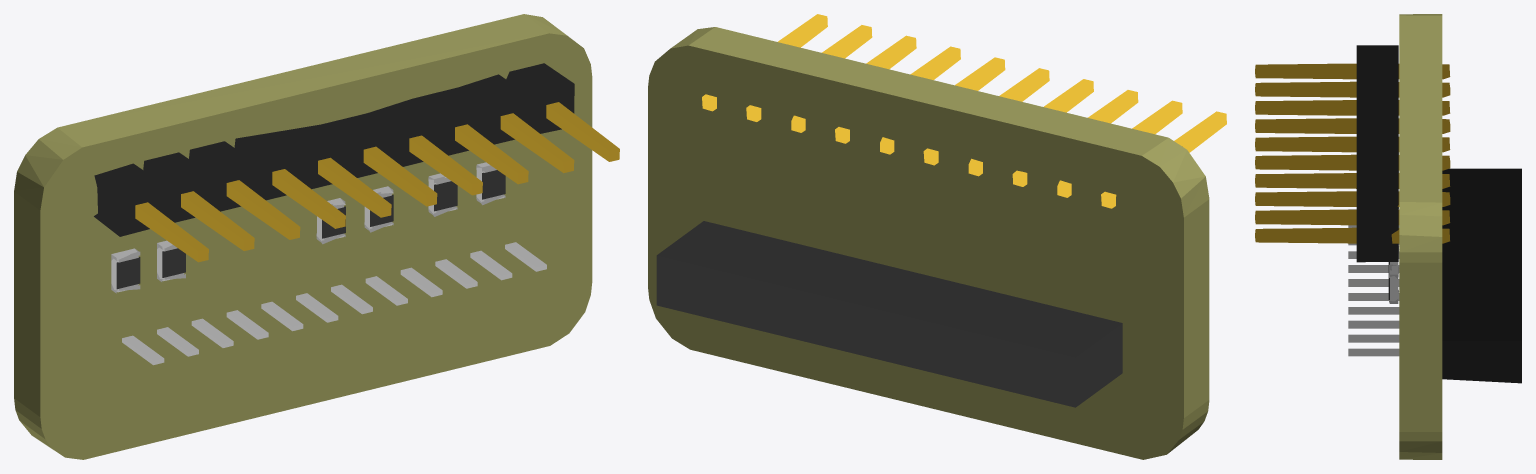
Rendered from OBJ_PCB_Flipper-FN_v1_1.obj.
3 renders of one model, left to right at view 1: azimuth 30°, elevation 25°; view 2: azimuth 150°, elevation 25°; view 3: azimuth 270°, elevation 25°, orthographic. The views are drawn at different scales.
Size of the model in its own units: 121 by 65.52 by 61.77.
